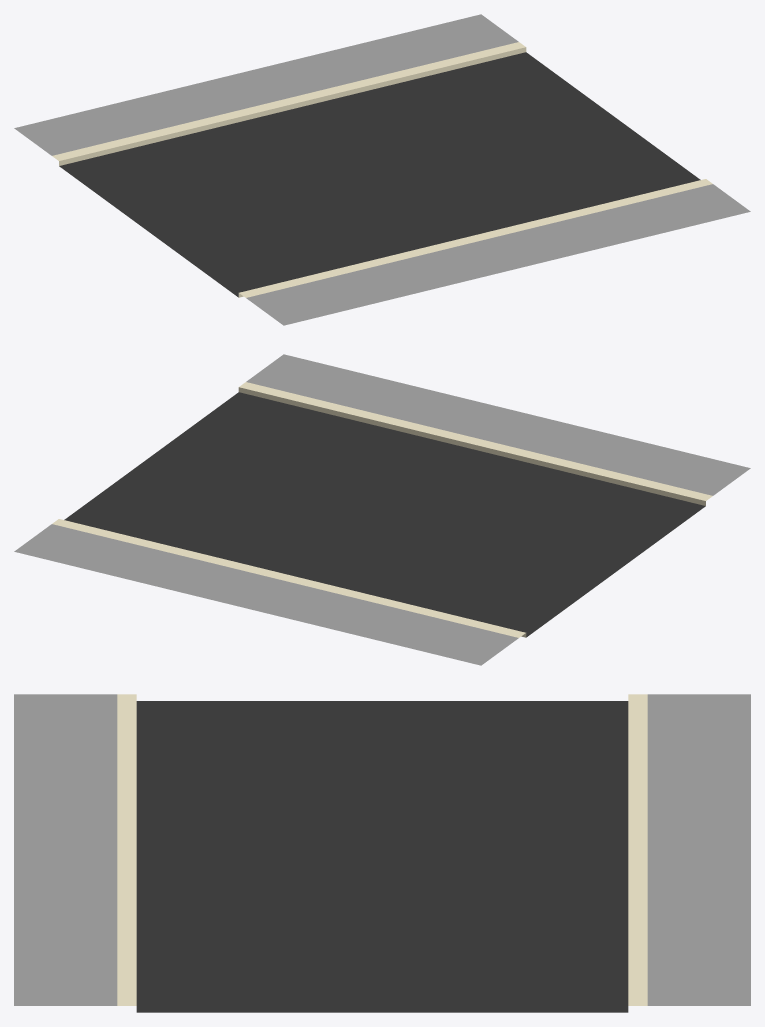
The model's file is Strasse1.glb.
3 views of the same model, one above another, from view 1: azimuth 30°, elevation 25°; view 2: azimuth 150°, elevation 25°; view 3: azimuth 270°, elevation 25° (orthographic). The views are drawn at different scales.
Visible parts, largest first — view 1: Straße1; view 2: Straße1; view 3: Straße1.
Boxes of the visible parts, x1,y1,x2,y2 form: Straße1: (14, 14, 750, 325); Straße1: (14, 354, 750, 665); Straße1: (14, 694, 750, 1012).
Size of the model in its own units: 6 by 0.061 by 6.
1 material, 1 textured.
